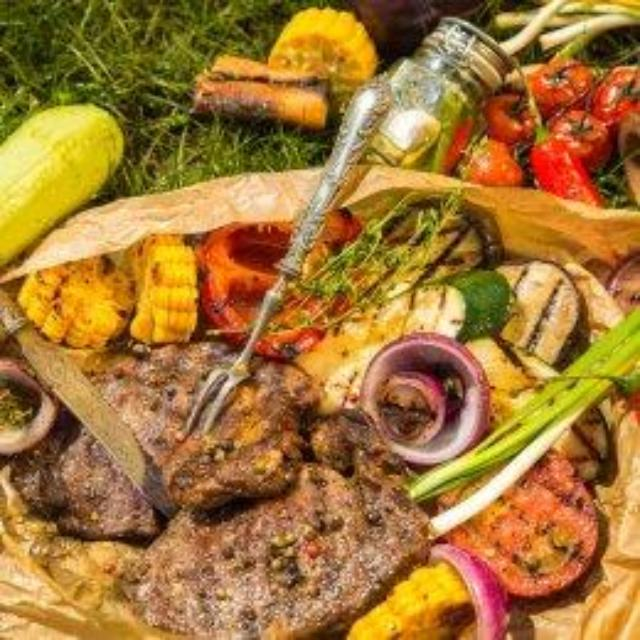Disposable: (0, 0, 640, 640)
Glass_bottle: (366, 17, 514, 172)
Metal: (186, 74, 391, 437), (0, 290, 176, 517)
